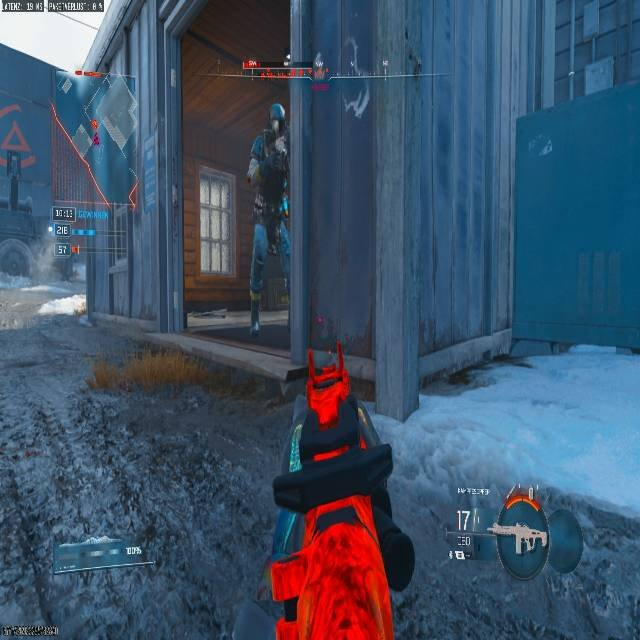head: (266, 102, 286, 137)
player: (243, 102, 288, 338)
